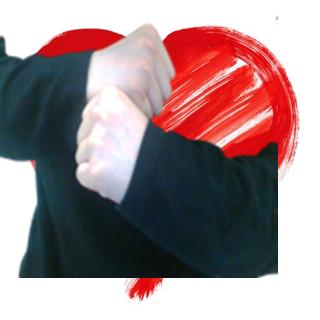CAREFUL: (62, 15, 180, 209)
